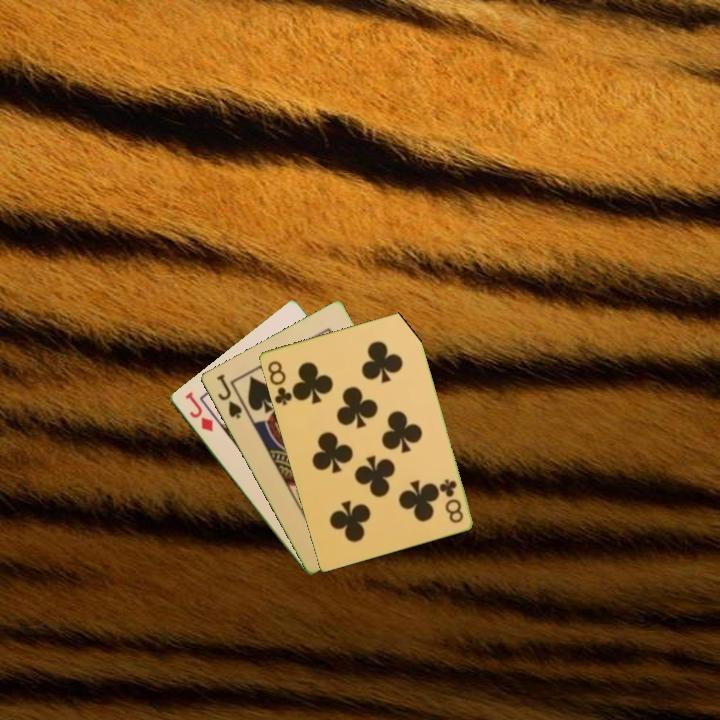8c: (264, 357, 297, 408), (436, 475, 466, 526)
Jd: (181, 388, 216, 435)
Js: (212, 370, 245, 422)
